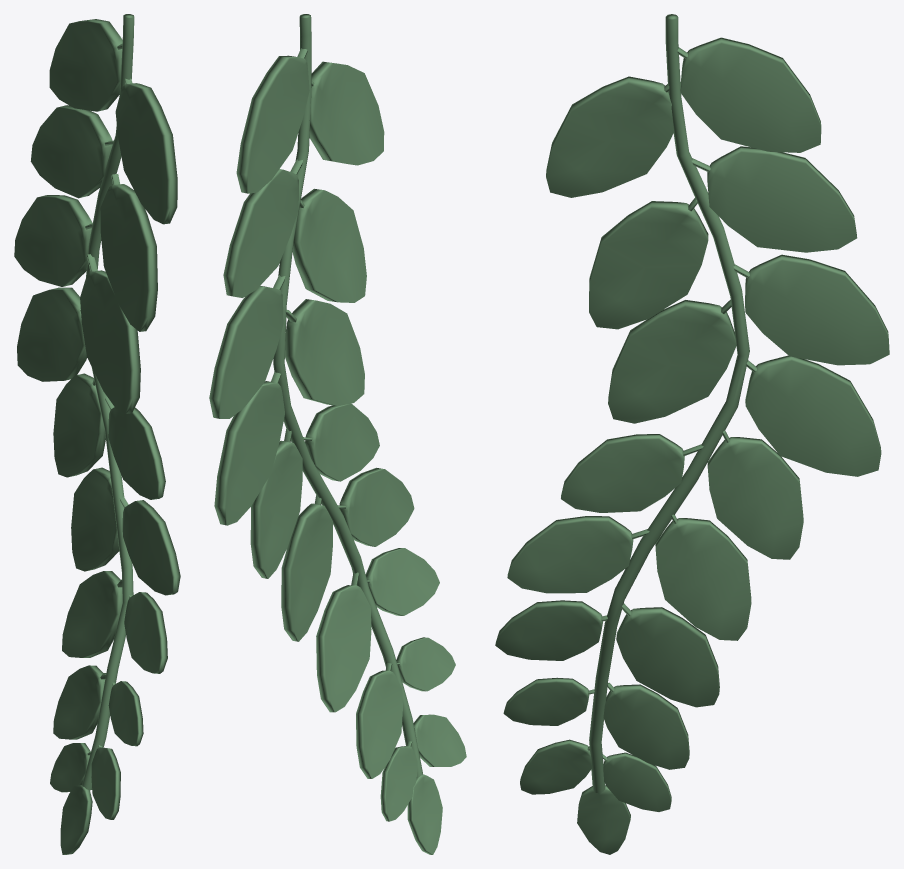
The model's file is 001_Ivy_001.fbx.
3 views of the same model, side by side, from view 1: azimuth 30°, elevation 25°; view 2: azimuth 150°, elevation 25°; view 3: azimuth 270°, elevation 25° (orthographic). The views are drawn at different scales.
Visible parts, largest first — view 1: Vine_01; view 2: Vine_01; view 3: Vine_01.
Part boxes in pixels (box(x1,y1,x2,y2)): Vine_01: box(14, 14, 180, 854); Vine_01: box(209, 14, 466, 854); Vine_01: box(495, 14, 889, 854).
Size of the model in its own units: 41.13 by 317 by 128.
